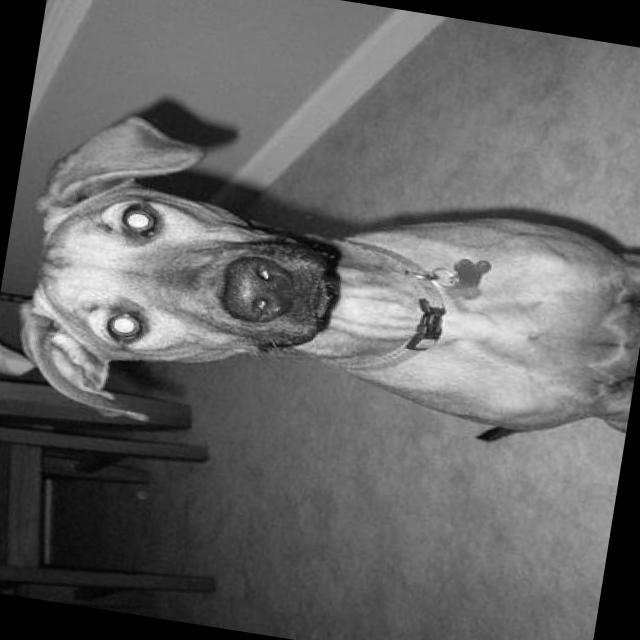sitting: (0, 94, 640, 511)
